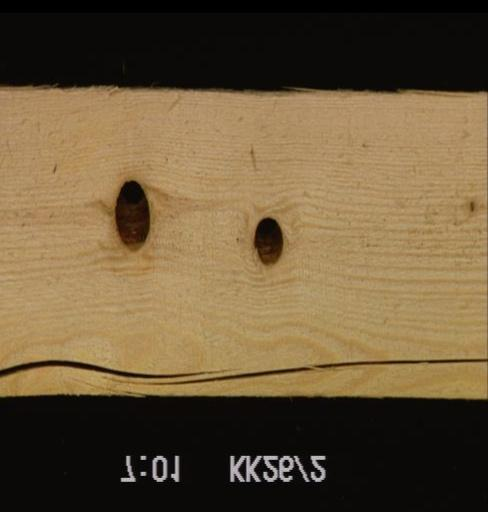split: (0, 353, 486, 387)
wave: (242, 79, 486, 112)
